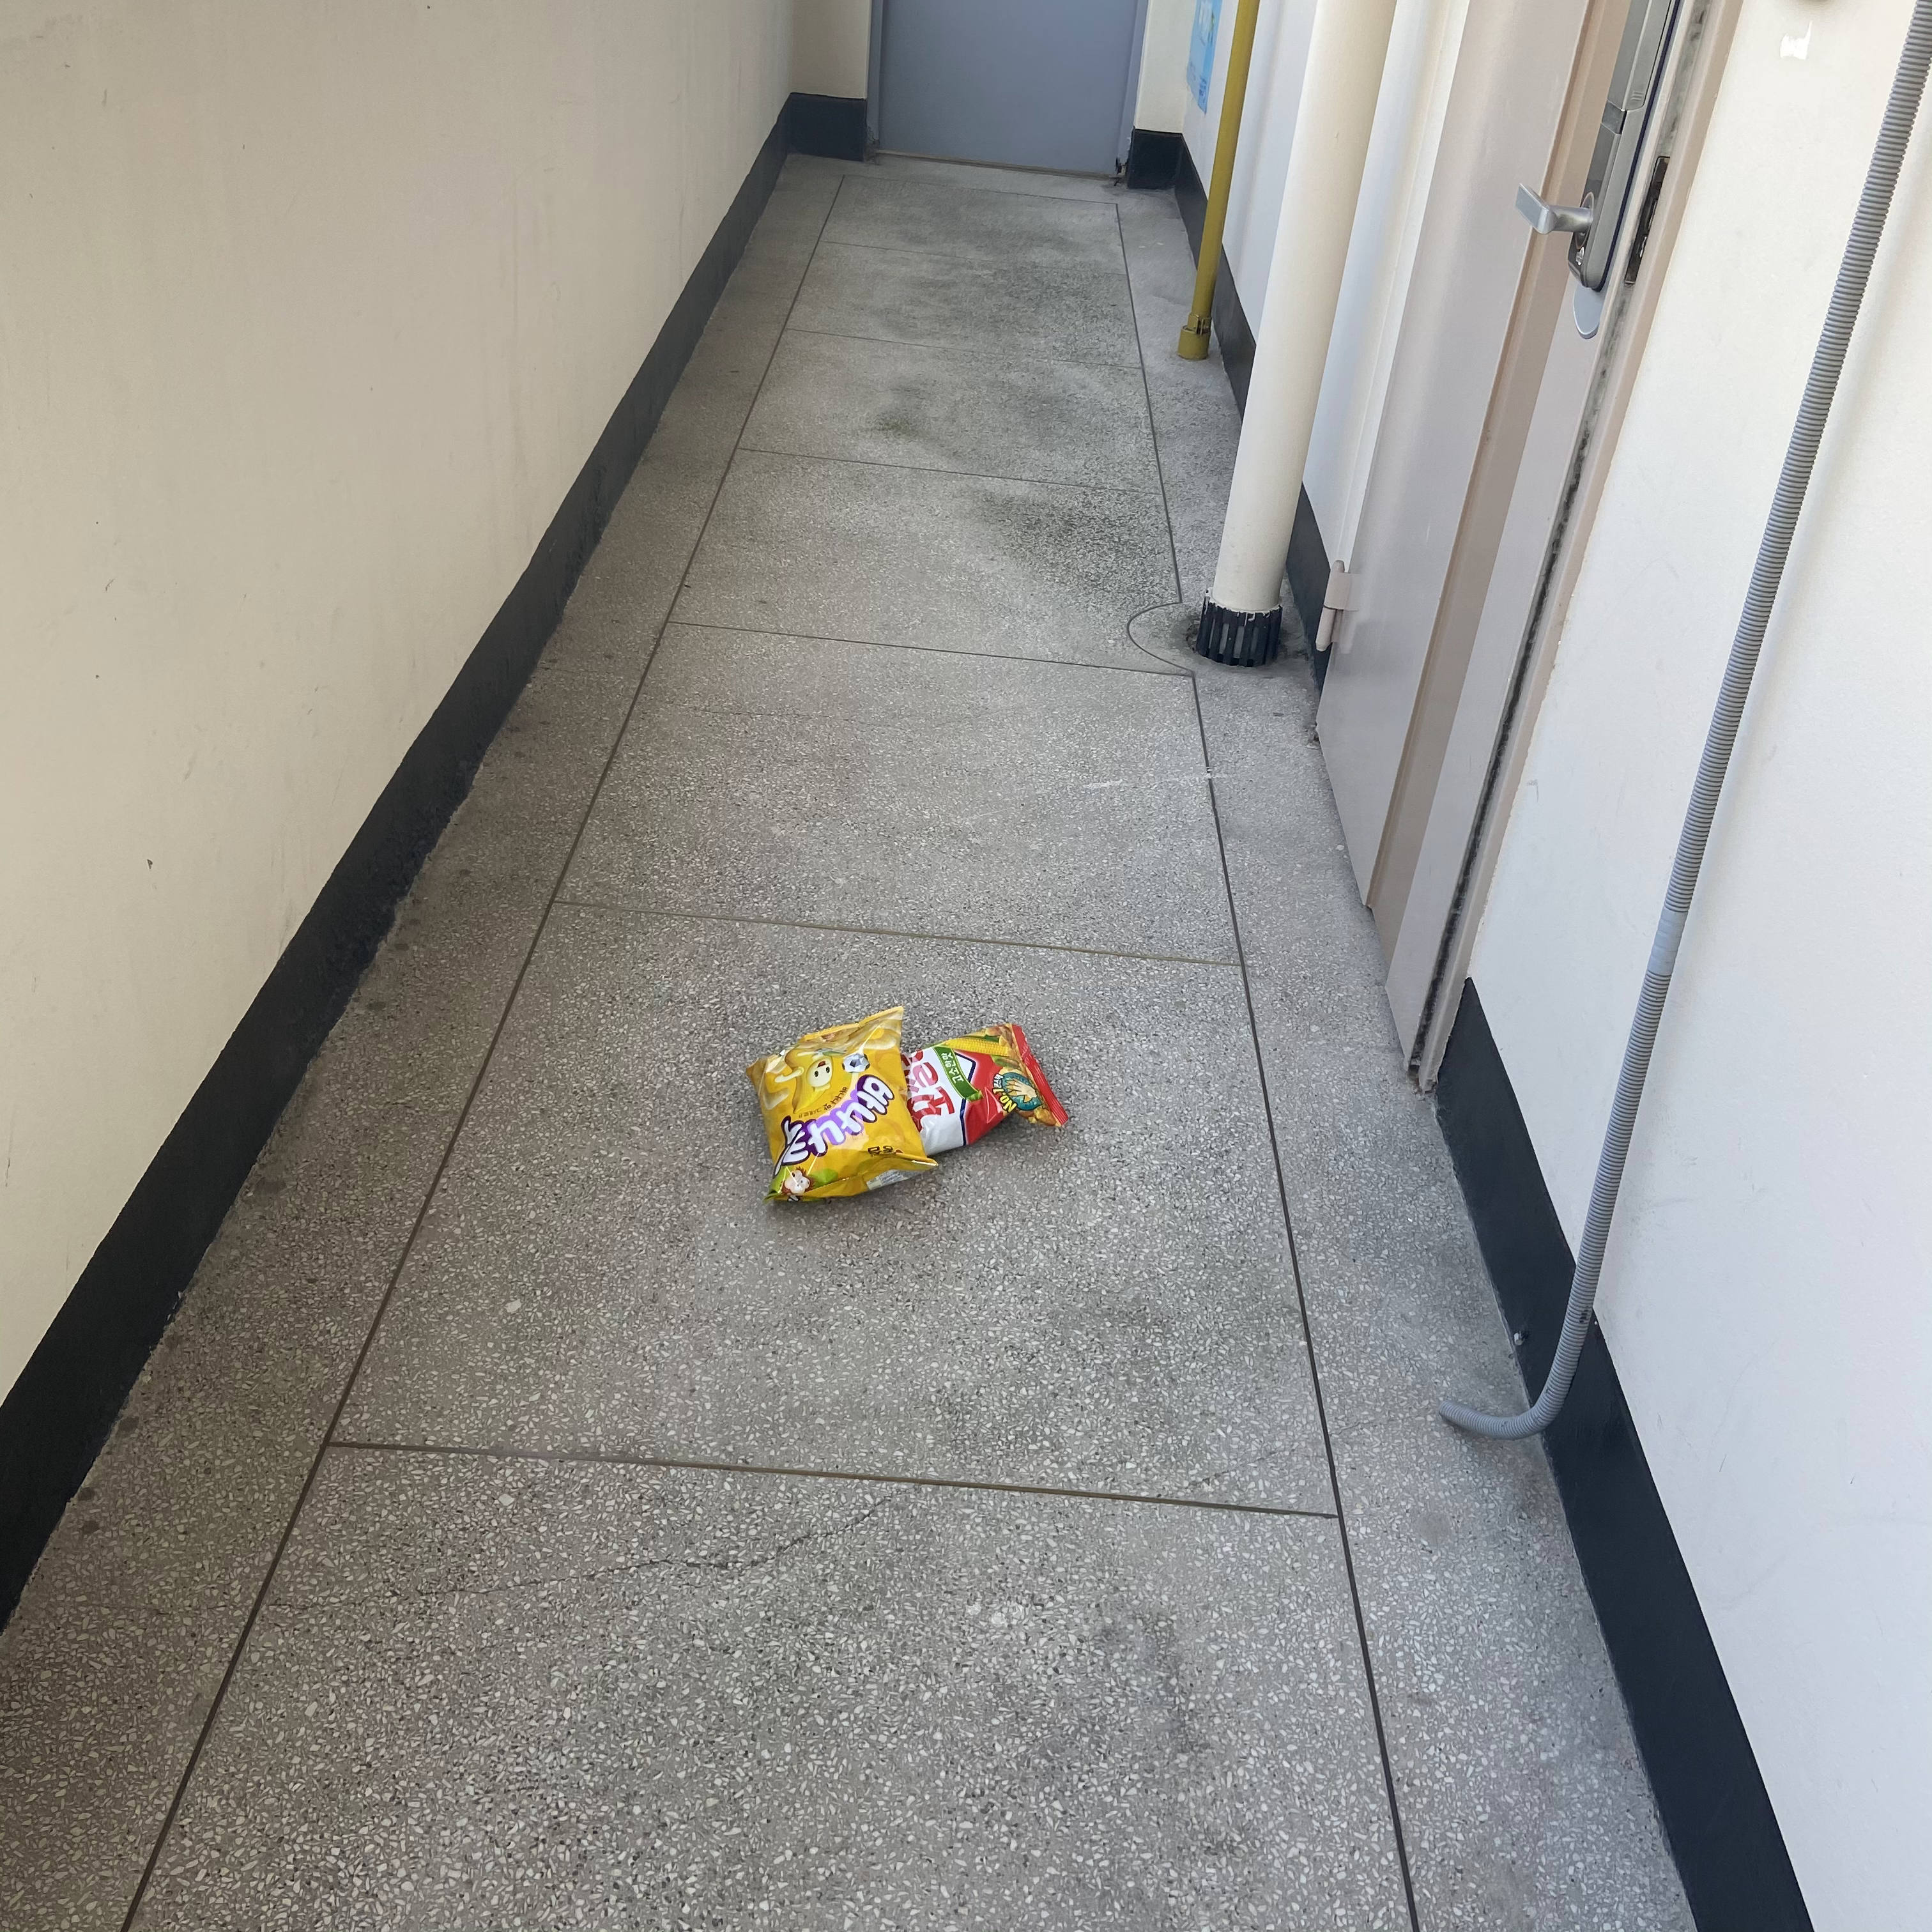banana: (738, 1005, 950, 1217)
ggoggalcon: (897, 1016, 1077, 1157)
